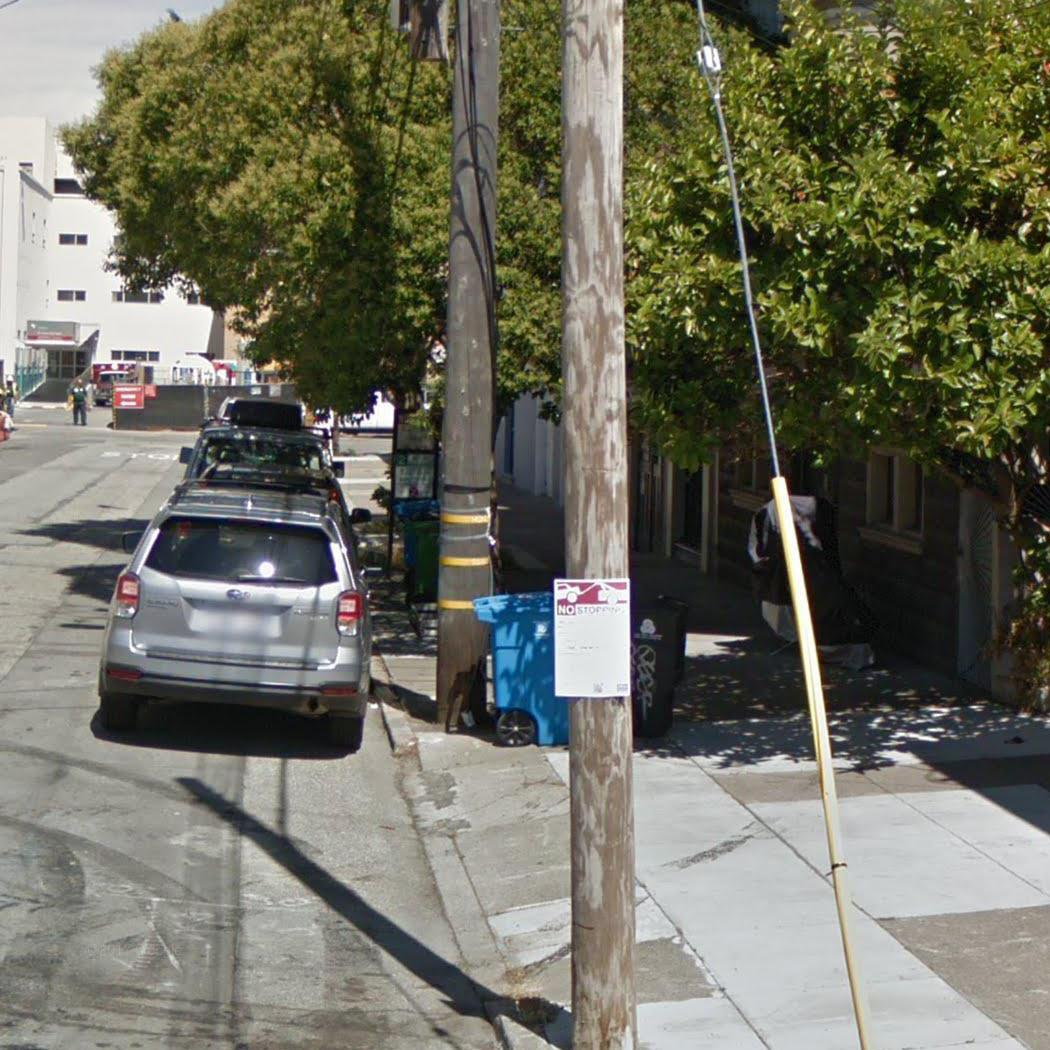2 Hour Parking: (393, 454, 436, 501)
No Parking: (395, 412, 434, 451)
